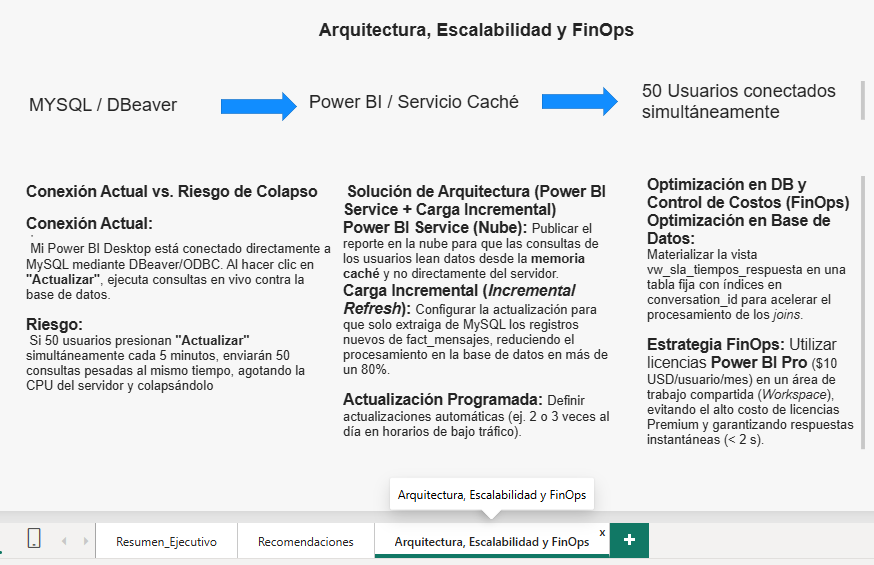

The dashboard page shown, as its layout file describes it:
{"tool":"powerbi","page":{"name":"Arquitectura, Escalabilidad y FinOps","canvas":[1920,1080],"ordinal":2},"visuals":[{"type":"textbox","box":[125.9,223,396.4,68.1],"z":0},{"type":"shape","box":[522.3,216.8,156.9,59.9],"z":1},{"type":"textbox","box":[491.4,68.1,1116.9,64],"z":2},{"type":"textbox","box":[704,216.8,460.4,82.6],"z":3},{"type":"shape","box":[1185,206.5,156.9,59.9],"z":4},{"type":"textbox","box":[1391.5,194.1,460.4,82.6],"z":5},{"type":"textbox","box":[119.7,404.6,637.9,468.6],"z":6},{"type":"textbox","box":[774.2,404.6,551.2,580.1],"z":7},{"type":"textbox","box":[1401.8,390.2,450.1,576],"z":8}]}

Visuals, with their boxes on the page's 1920x1080 design canvas (x1, y1, x2, y2). These are canvas units, not pixel positions in the 874x565 screenshot, which may show the page scaled, cropped or inside an application window:
textbox: left=126, top=223, right=522, bottom=291
shape: left=522, top=217, right=679, bottom=277
textbox: left=491, top=68, right=1608, bottom=132
textbox: left=704, top=217, right=1164, bottom=299
shape: left=1185, top=206, right=1342, bottom=266
textbox: left=1392, top=194, right=1852, bottom=277
textbox: left=120, top=405, right=758, bottom=873
textbox: left=774, top=405, right=1325, bottom=985
textbox: left=1402, top=390, right=1852, bottom=966
